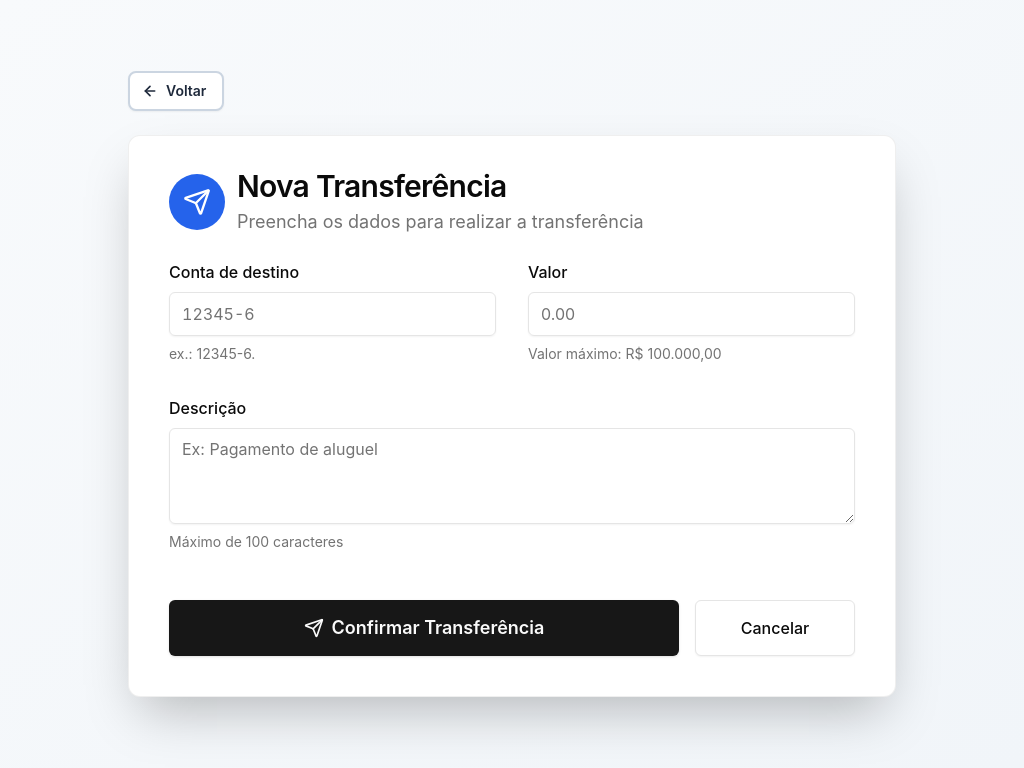
Fluxo de Transferência › deve validar formato da conta de destino
The image size is (1024, 768).
In the field with placeholder "12345-6": coordinates (332, 314) [169,292,496,336], type "123"
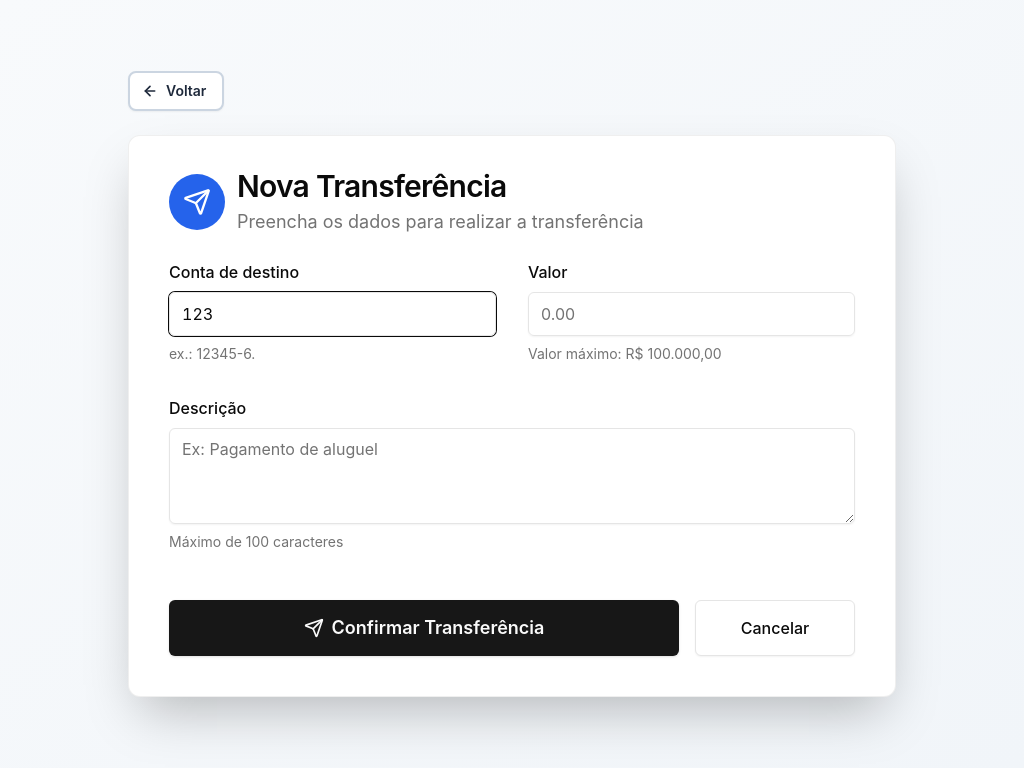
Click the button "Confirmar Transferência": coordinates (424, 628) [169,600,679,656]
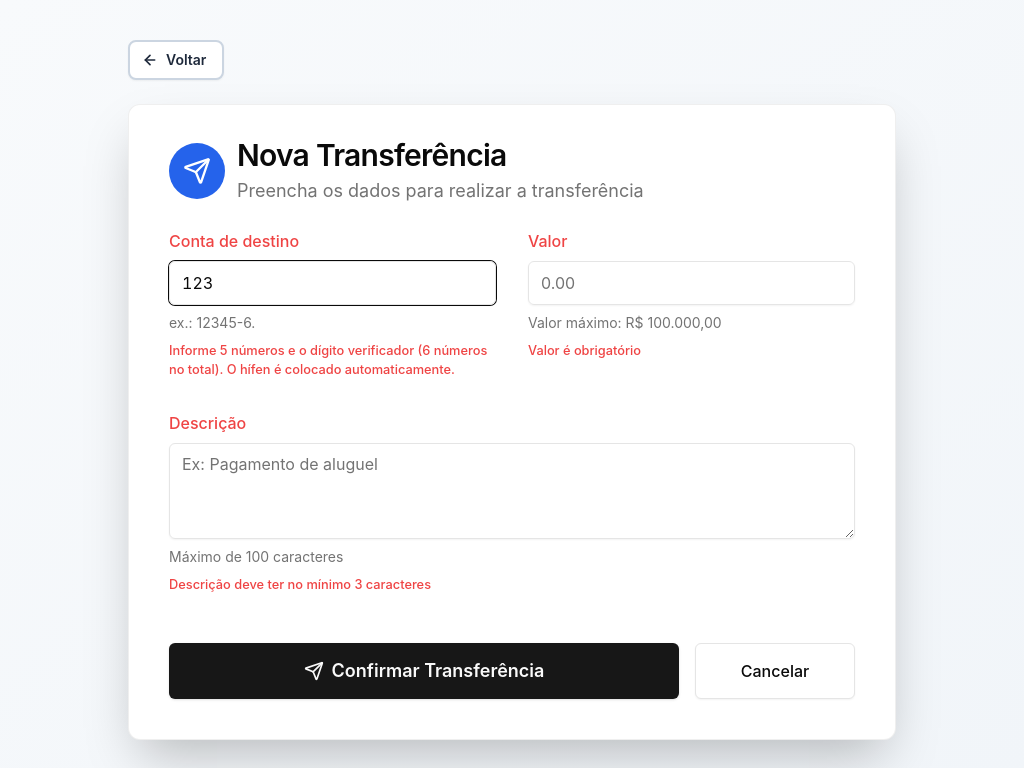
Expected: the text "Informe 5 números e o dígito verificador" is shown, [169,343,487,377]
